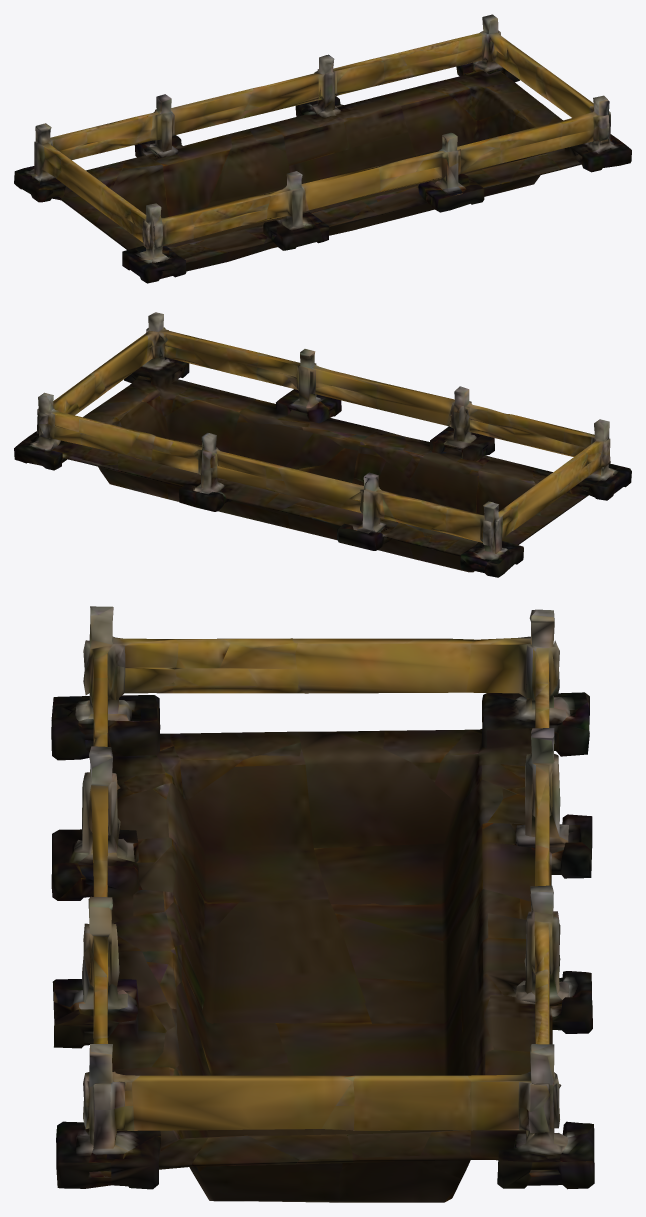
The model's file is veh-j-trench.glb.
The picture shows the model from 3 angles, top to bottom: view 1: azimuth 30°, elevation 25°; view 2: azimuth 150°, elevation 25°; view 3: azimuth 270°, elevation 25°; orthographic projection. The views are drawn at different scales.
Parts seen in each view (by area): view 1: tripo_node_a2f2a092-b1cb-4416-9a1d-fb202ef6bf44; view 2: tripo_node_a2f2a092-b1cb-4416-9a1d-fb202ef6bf44; view 3: tripo_node_a2f2a092-b1cb-4416-9a1d-fb202ef6bf44.
Boxes of the visible parts, left/top/right/bottom form: tripo_node_a2f2a092-b1cb-4416-9a1d-fb202ef6bf44: left=14, top=14, right=631, bottom=283; tripo_node_a2f2a092-b1cb-4416-9a1d-fb202ef6bf44: left=14, top=312, right=631, bottom=577; tripo_node_a2f2a092-b1cb-4416-9a1d-fb202ef6bf44: left=51, top=606, right=594, bottom=1202.
Bounding box in the file's own units: 0.9793 × 0.1924 × 0.4751.
Materials: 1 (1 with a texture image).
